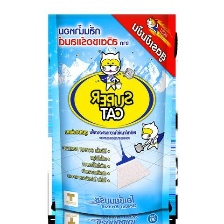cleaning_solution: (43, 9, 183, 224)
